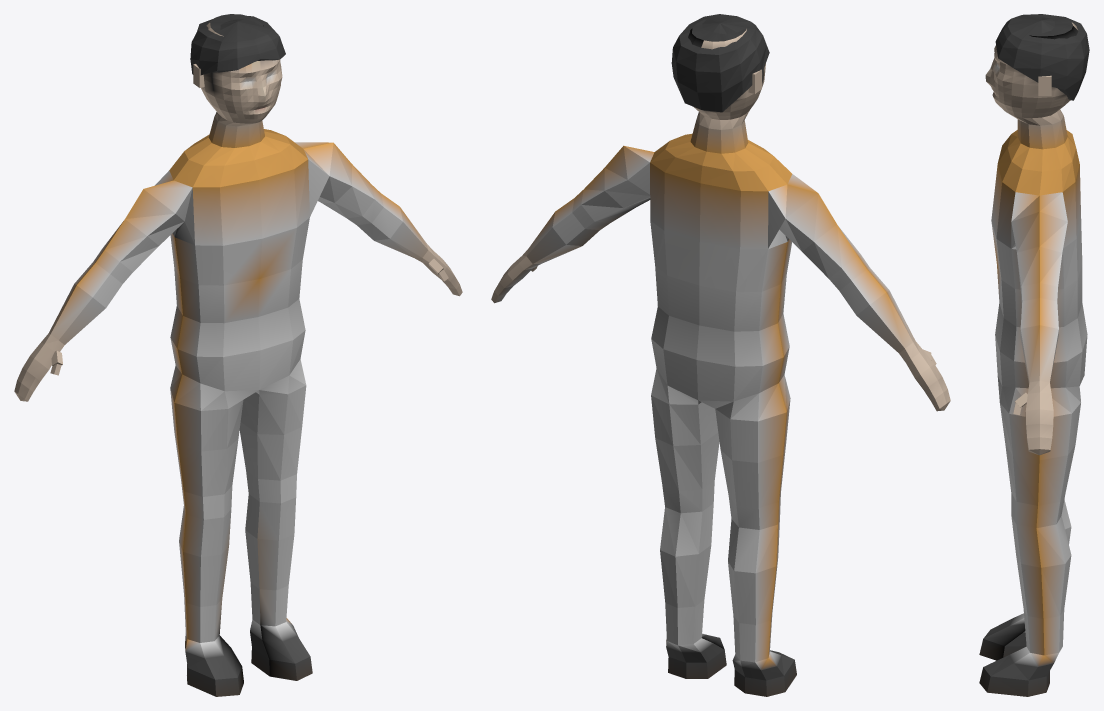
File: char__pessoa__piloto_h04.glb
3 renders of one model, left to right at view 1: azimuth 30°, elevation 25°; view 2: azimuth 150°, elevation 25°; view 3: azimuth 270°, elevation 25°, orthographic. The views are drawn at different scales.
Visible parts, largest first — view 1: char__pessoa__piloto_h04; view 2: char__pessoa__piloto_h04; view 3: char__pessoa__piloto_h04.
Boxes of the visible parts, box(x1,y1,x2,y2) form: char__pessoa__piloto_h04: box(14, 14, 462, 696); char__pessoa__piloto_h04: box(491, 14, 950, 696); char__pessoa__piloto_h04: box(979, 14, 1089, 696).
Size of the model in its own units: 1.33 by 1.87 by 0.2864.
